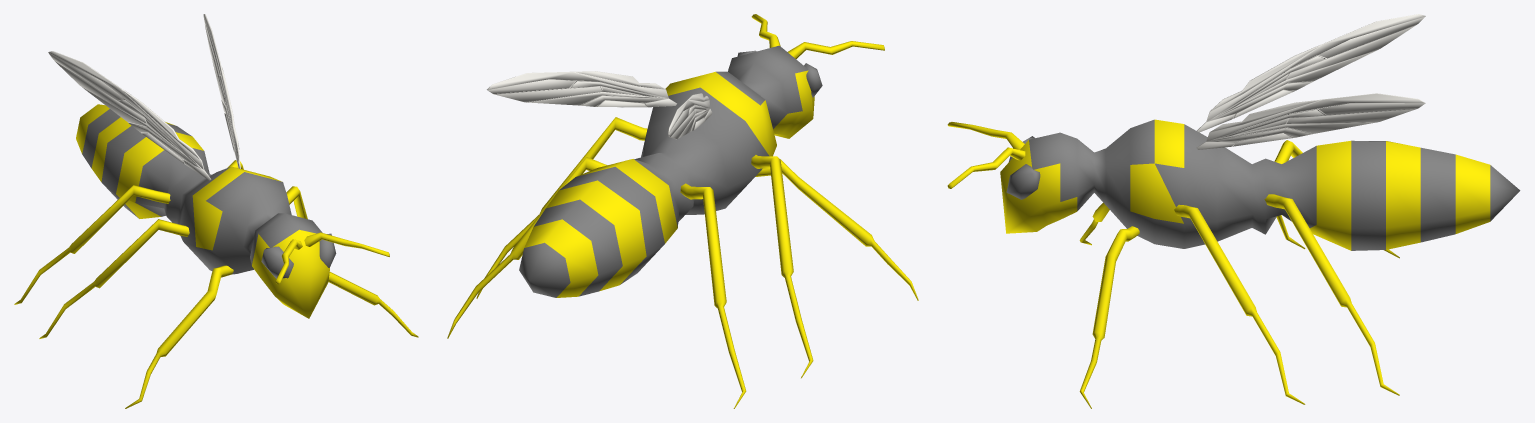
Rendered from 2aKeIJiUspL.glb.
3 views of the same model, side by side, from view 1: azimuth 30°, elevation 25°; view 2: azimuth 150°, elevation 25°; view 3: azimuth 270°, elevation 25° (orthographic). The views are drawn at different scales.
Parts seen in each view (by area): view 1: Symmetry; view 2: Symmetry; view 3: Symmetry.
Boxes of the visible parts, <box> form: Symmetry: <box>14,14,418,408</box>; Symmetry: <box>447,14,918,408</box>; Symmetry: <box>947,14,1520,408</box>.
Bounding box in the file's own units: 1.3 × 1 × 1.92.
